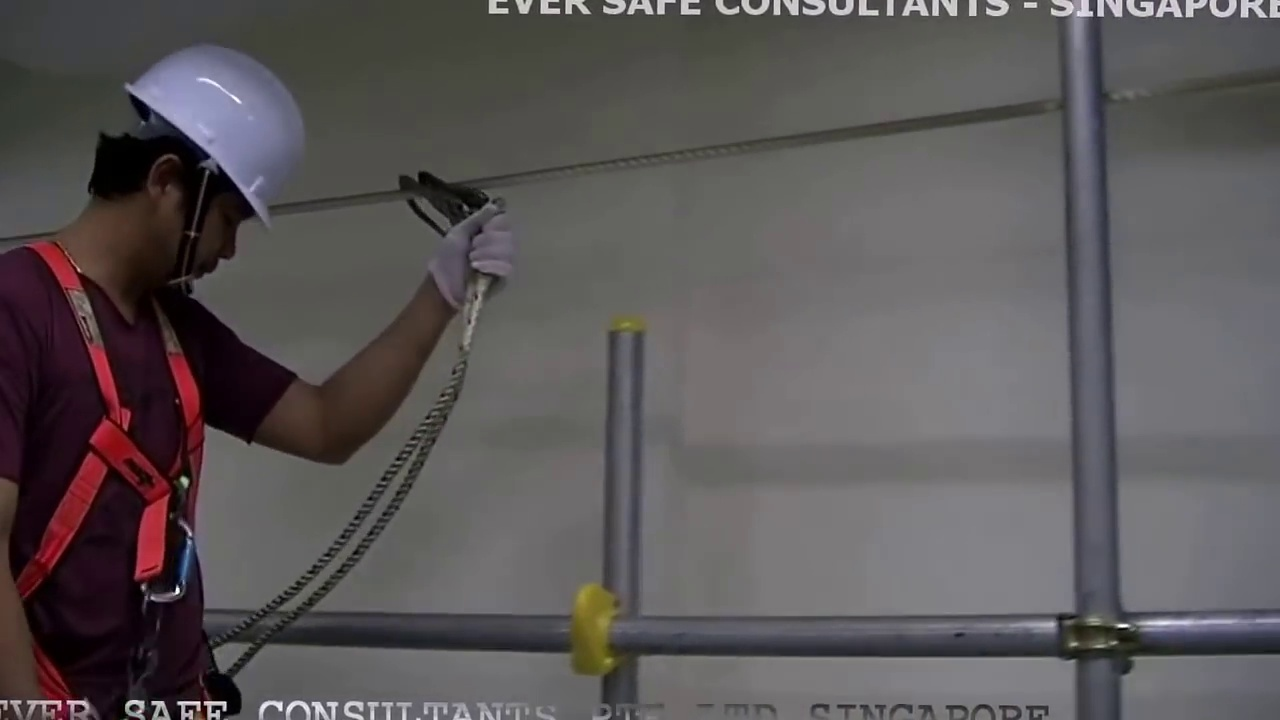harness: (29, 242, 199, 654)
helmet: (120, 48, 287, 196)
hook: (396, 165, 472, 224)
leash: (229, 353, 471, 669)
